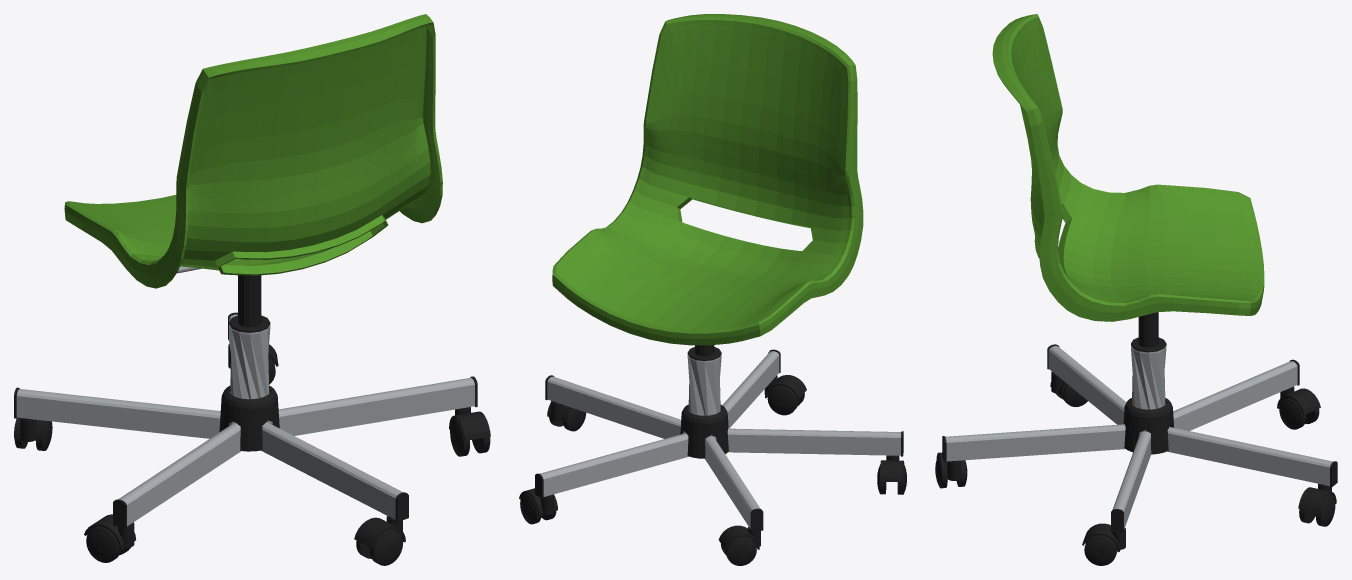
3 views of the same model, side by side, from view 1: azimuth 30°, elevation 25°; view 2: azimuth 150°, elevation 25°; view 3: azimuth 270°, elevation 25° (orthographic). The views are drawn at different scales.
Visible parts, largest first — view 1: Mesh2 Group2 SNILLE_IKEA1 Model, Mesh8 Group6 SNILLE_IKEA1 Model, Mesh7 Group5 SNILLE_IKEA1 Model, Mesh1 Group1 SNILLE_IKEA1 Model, Mesh3 Group3 SNILLE_IKEA1 Model, Mesh11 ROULETTE1 SNILLE_IKEA1 Model, Mesh12 ROULETTE2 SNILLE_IKEA1 Model, Mesh20 ROULETTE4 SNILLE_IKEA1 Model, Mesh18 ROULETTE4 SNILLE_IKEA1 Model, Mesh9 ROULETTE1 SNILLE_IKEA1 Model, Mesh21 ROULETTE5 SNILLE_IKEA1 Model; view 2: Mesh2 Group2 SNILLE_IKEA1 Model, Mesh8 Group6 SNILLE_IKEA1 Model, Mesh7 Group5 SNILLE_IKEA1 Model, Mesh1 Group1 SNILLE_IKEA1 Model, Mesh23 ROULETTE5 SNILLE_IKEA1 Model, Mesh19 ROULETTE4 SNILLE_IKEA1 Model, Mesh9 ROULETTE1 SNILLE_IKEA1 Model, Mesh21 ROULETTE5 SNILLE_IKEA1 Model, Mesh18 ROULETTE4 SNILLE_IKEA1 Model, Mesh15 ROULETTE3 SNILLE_IKEA1 Model; view 3: Mesh2 Group2 SNILLE_IKEA1 Model, Mesh8 Group6 SNILLE_IKEA1 Model, Mesh7 Group5 SNILLE_IKEA1 Model, Mesh1 Group1 SNILLE_IKEA1 Model, Mesh3 Group3 SNILLE_IKEA1 Model, Mesh14 ROULETTE2 SNILLE_IKEA1 Model, Mesh15 ROULETTE3 SNILLE_IKEA1 Model, Mesh21 ROULETTE5 SNILLE_IKEA1 Model, Mesh22 ROULETTE5 SNILLE_IKEA1 Model, Mesh12 ROULETTE2 SNILLE_IKEA1 Model, Mesh18 ROULETTE4 SNILLE_IKEA1 Model.
Part boxes in pixels (left/top/right/bottom): Mesh2 Group2 SNILLE_IKEA1 Model: left=64, top=14, right=442, bottom=288; Mesh8 Group6 SNILLE_IKEA1 Model: left=14, top=312, right=477, bottom=528; Mesh7 Group5 SNILLE_IKEA1 Model: left=229, top=325, right=270, bottom=399; Mesh1 Group1 SNILLE_IKEA1 Model: left=219, top=385, right=279, bottom=451; Mesh3 Group3 SNILLE_IKEA1 Model: left=229, top=275, right=270, bottom=332; Mesh11 ROULETTE1 SNILLE_IKEA1 Model: left=86, top=526, right=120, bottom=562; Mesh12 ROULETTE2 SNILLE_IKEA1 Model: left=449, top=407, right=490, bottom=440; Mesh20 ROULETTE4 SNILLE_IKEA1 Model: left=370, top=529, right=402, bottom=565; Mesh18 ROULETTE4 SNILLE_IKEA1 Model: left=354, top=516, right=405, bottom=548; Mesh9 ROULETTE1 SNILLE_IKEA1 Model: left=84, top=514, right=135, bottom=549; Mesh21 ROULETTE5 SNILLE_IKEA1 Model: left=14, top=417, right=43, bottom=441; Mesh2 Group2 SNILLE_IKEA1 Model: left=552, top=14, right=863, bottom=345; Mesh8 Group6 SNILLE_IKEA1 Model: left=535, top=349, right=903, bottom=531; Mesh7 Group5 SNILLE_IKEA1 Model: left=687, top=354, right=721, bottom=415; Mesh1 Group1 SNILLE_IKEA1 Model: left=680, top=404, right=728, bottom=458; Mesh23 ROULETTE5 SNILLE_IKEA1 Model: left=725, top=536, right=756, bottom=565; Mesh19 ROULETTE4 SNILLE_IKEA1 Model: left=767, top=385, right=798, bottom=415; Mesh9 ROULETTE1 SNILLE_IKEA1 Model: left=880, top=455, right=904, bottom=482; Mesh21 ROULETTE5 SNILLE_IKEA1 Model: left=718, top=525, right=760, bottom=549; Mesh18 ROULETTE4 SNILLE_IKEA1 Model: left=764, top=375, right=806, bottom=399; Mesh15 ROULETTE3 SNILLE_IKEA1 Model: left=519, top=488, right=557, bottom=515; Mesh2 Group2 SNILLE_IKEA1 Model: left=992, top=14, right=1264, bottom=321; Mesh8 Group6 SNILLE_IKEA1 Model: left=942, top=344, right=1337, bottom=532; Mesh7 Group5 SNILLE_IKEA1 Model: left=1131, top=345, right=1166, bottom=409; Mesh1 Group1 SNILLE_IKEA1 Model: left=1123, top=398, right=1173, bottom=454; Mesh3 Group3 SNILLE_IKEA1 Model: left=1131, top=312, right=1166, bottom=352; Mesh14 ROULETTE2 SNILLE_IKEA1 Model: left=1084, top=535, right=1117, bottom=565; Mesh15 ROULETTE3 SNILLE_IKEA1 Model: left=1298, top=483, right=1336, bottom=512; Mesh21 ROULETTE5 SNILLE_IKEA1 Model: left=1277, top=386, right=1320, bottom=414; Mesh22 ROULETTE5 SNILLE_IKEA1 Model: left=1279, top=397, right=1306, bottom=429; Mesh12 ROULETTE2 SNILLE_IKEA1 Model: left=1082, top=523, right=1125, bottom=551; Mesh18 ROULETTE4 SNILLE_IKEA1 Model: left=936, top=452, right=966, bottom=480.
Bounding box in the file's own units: 0.5965 × 0.6877 × 0.5847.
